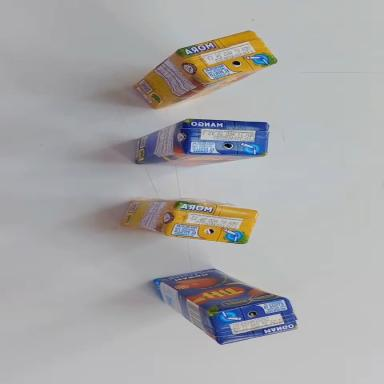HIT-MANGO: (141, 249, 305, 369), (135, 119, 267, 167)
HIT-MORA: (128, 14, 278, 121), (120, 191, 258, 248)
cara_F: (153, 249, 286, 336), (157, 54, 275, 116), (135, 152, 264, 169)
